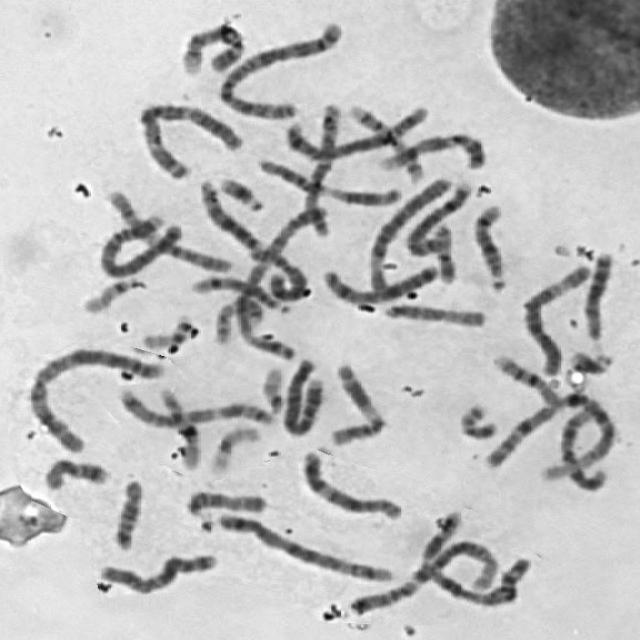A1: (481, 391, 620, 482), (429, 528, 529, 609)
A2: (21, 341, 168, 455), (212, 16, 348, 123)
A3: (234, 194, 336, 366), (131, 96, 247, 182)
B4: (92, 212, 181, 280), (279, 353, 328, 437)
B5: (211, 508, 396, 586), (278, 100, 430, 162)
C10: (98, 185, 232, 275), (300, 94, 347, 241)
C11: (254, 154, 408, 208), (324, 358, 390, 448)
C12: (296, 445, 404, 524), (559, 399, 609, 491)
C6: (361, 172, 457, 301), (518, 258, 596, 378)
C7: (341, 502, 460, 618), (110, 382, 277, 430)
C8: (399, 175, 473, 258), (250, 244, 319, 312)
C9: (374, 128, 490, 173), (176, 18, 246, 76)
D13: (194, 172, 264, 255), (579, 246, 618, 342)
D14: (187, 271, 291, 314), (467, 199, 511, 295)
D15: (378, 298, 489, 331), (179, 487, 269, 518)
E16: (489, 350, 563, 407), (154, 384, 202, 471)
E17: (344, 101, 428, 184), (209, 296, 265, 346)
E18: (39, 453, 112, 494), (111, 474, 148, 552)
F19: (204, 421, 264, 476), (140, 314, 199, 351)
F20: (453, 398, 501, 442), (428, 219, 459, 285)
G21: (213, 171, 267, 212), (564, 344, 616, 378)
G22: (76, 273, 144, 315), (254, 361, 288, 416)
X: (92, 548, 220, 596), (319, 260, 441, 304)
